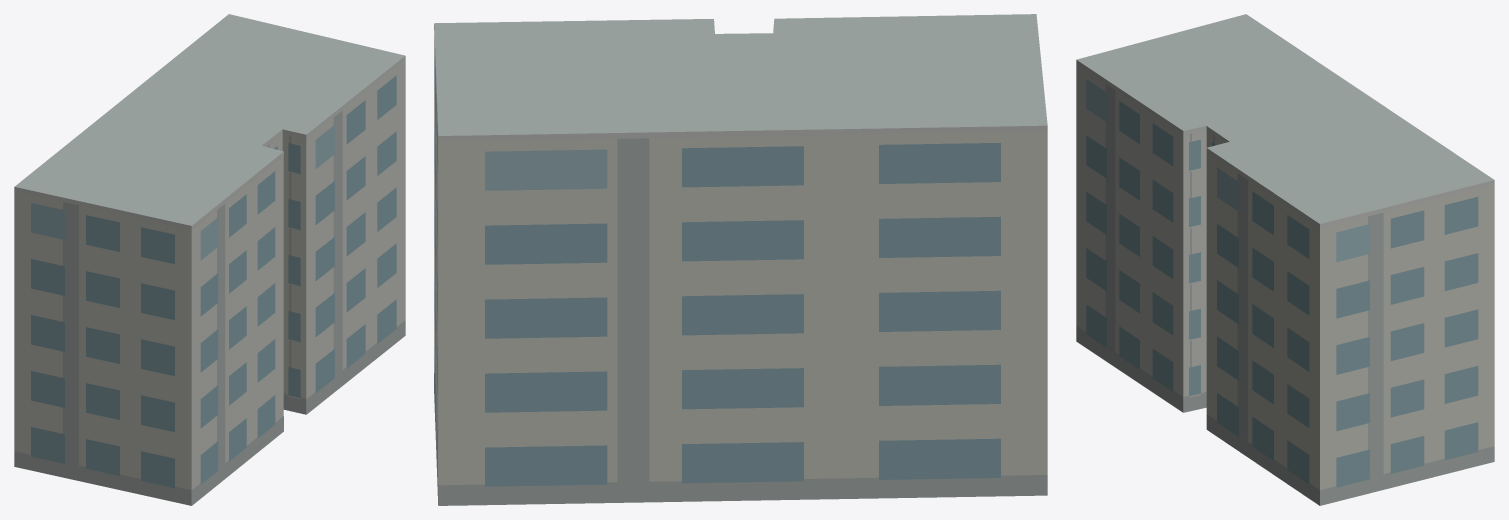
The model's file is survey-upis-32736706.glb.
3 views of the same model, side by side, from view 1: azimuth 30°, elevation 25°; view 2: azimuth 150°, elevation 25°; view 3: azimuth 270°, elevation 25° (orthographic). The views are drawn at different scales.
Parts seen in each view (by area): view 1: survey-upis-32736706.tmp; view 2: survey-upis-32736706.tmp; view 3: survey-upis-32736706.tmp.
Part boxes in pixels (box(x1,y1,x2,y2)): survey-upis-32736706.tmp: box(14, 14, 405, 505); survey-upis-32736706.tmp: box(434, 14, 1047, 505); survey-upis-32736706.tmp: box(1076, 14, 1494, 505).
Size of the model in its own units: 24.39 by 15.25 by 20.53.
